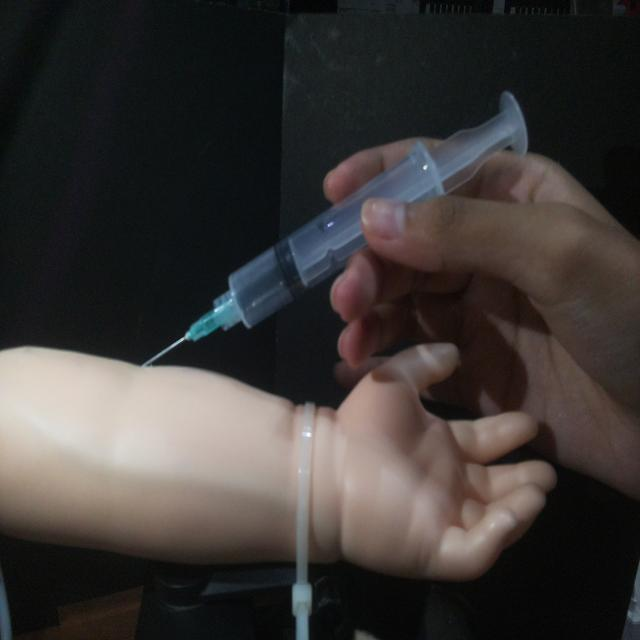28deg: (136, 86, 532, 370)
